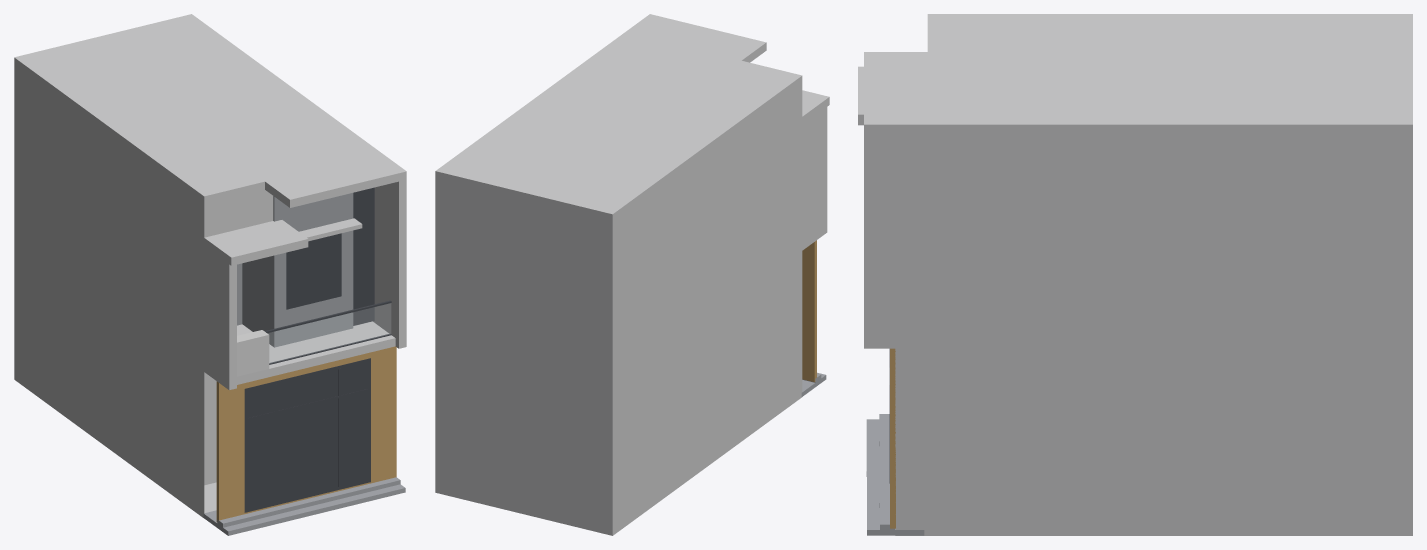
The model's file is vn_house_urban2.glb.
3 renders of one model, left to right at view 1: azimuth 30°, elevation 25°; view 2: azimuth 150°, elevation 25°; view 3: azimuth 270°, elevation 25°, orthographic. The views are drawn at different scales.
Parts seen in each view (by area): view 1: Object_4, Object_14; view 2: Object_4; view 3: Object_4.
Boxes of the visible parts, bbox=[...] form: Object_4: bbox=[14, 14, 406, 535]; Object_14: bbox=[268, 303, 390, 363]; Object_4: bbox=[435, 14, 829, 535]; Object_4: bbox=[858, 14, 1412, 535].
Size of the model in its own units: 4.5 by 7.8 by 9.53.
